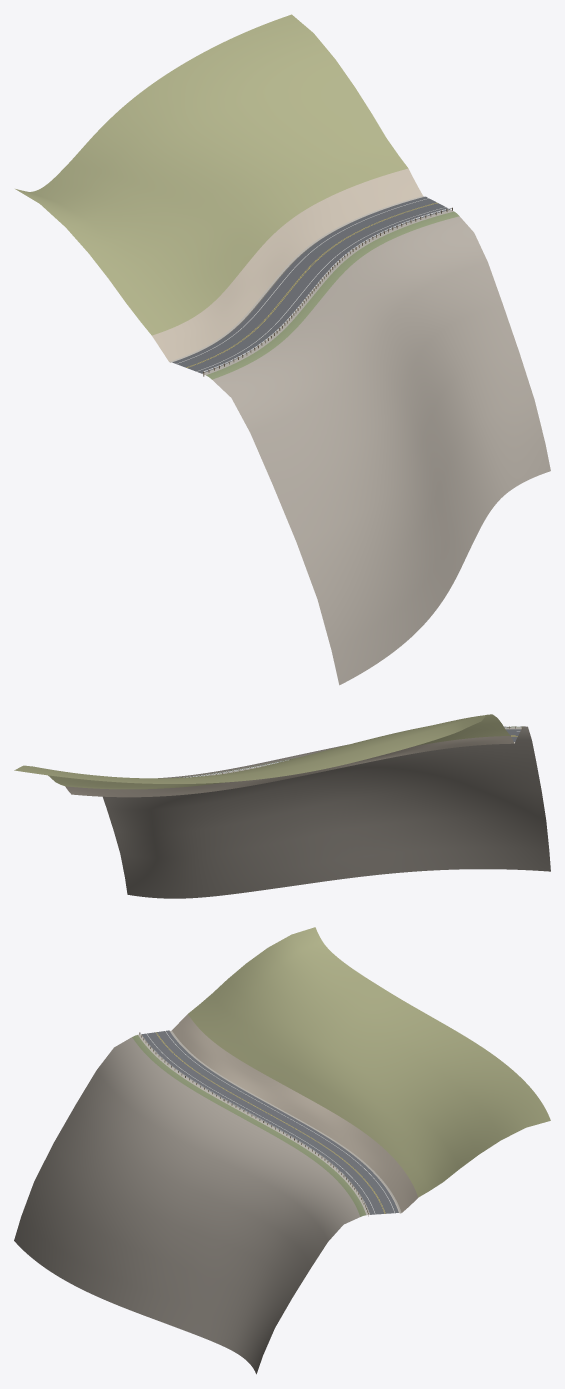
3 renders of one model, top to bottom at view 1: azimuth 30°, elevation 25°; view 2: azimuth 150°, elevation 25°; view 3: azimuth 270°, elevation 25°, orthographic. The views are drawn at different scales.
Parts seen in each view (by area): view 1: Cliff, Hillside, RoadCut, Asphalt, Verge, Gravel; view 2: Cliff, Hillside, RoadCut; view 3: Cliff, Hillside, RoadCut, Asphalt, Verge, Gravel.
Boxes of the visible parts, <box> form: Cliff: <box>212,216,550,685</box>; Hillside: <box>15,14,408,335</box>; RoadCut: <box>152,168,422,361</box>; Asphalt: <box>172,196,450,373</box>; Verge: <box>206,211,459,379</box>; Gravel: <box>169,196,453,375</box>; Cliff: <box>103,726,550,898</box>; Hillside: <box>14,714,510,789</box>; RoadCut: <box>65,736,514,797</box>; Cliff: <box>14,1037,359,1374</box>; Hillside: <box>188,927,550,1197</box>; RoadCut: <box>172,1014,418,1212</box>; Asphalt: <box>142,1030,398,1214</box>; Verge: <box>132,1035,365,1216</box>; Gravel: <box>138,1030,401,1215</box>.
Bounding box in the file's own units: 149 × 107 × 192.
